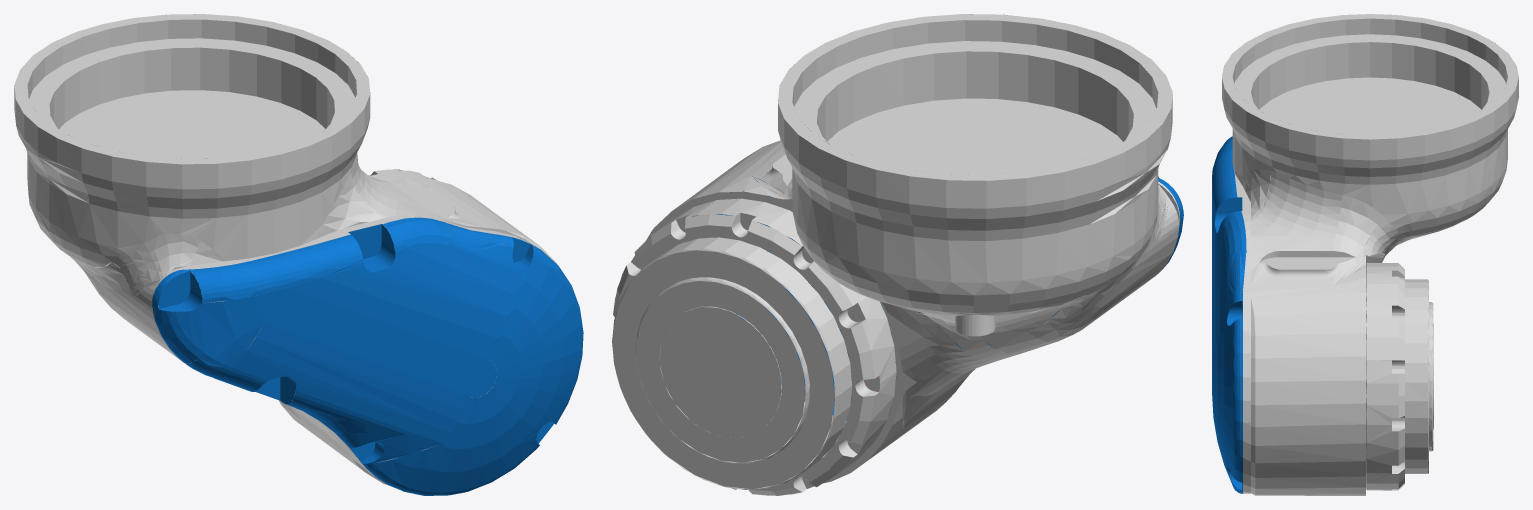
The model's file is arm_right_link_3_e.dae.
3 renders of one model, left to right at view 1: azimuth 30°, elevation 25°; view 2: azimuth 150°, elevation 25°; view 3: azimuth 270°, elevation 25°, orthographic. The views are drawn at different scales.
Visible parts, largest first — view 1: ShapeIndexedFaceSet, ShapeIndexedFaceSet_001; view 2: ShapeIndexedFaceSet, ShapeIndexedFaceSet_001, ShapeIndexedFaceSet_002; view 3: ShapeIndexedFaceSet, ShapeIndexedFaceSet_001.
Boxes of the visible parts, left/top/right/bottom form: ShapeIndexedFaceSet: left=14, top=14, right=556, bottom=485; ShapeIndexedFaceSet_001: left=152, top=217, right=583, bottom=495; ShapeIndexedFaceSet: left=612, top=14, right=1179, bottom=495; ShapeIndexedFaceSet_001: left=716, top=169, right=1183, bottom=419; ShapeIndexedFaceSet_002: left=955, top=314, right=995, bottom=336; ShapeIndexedFaceSet: left=1222, top=14, right=1518, bottom=495; ShapeIndexedFaceSet_001: left=1212, top=136, right=1246, bottom=493.
Size of the model in its own units: 0.2085 by 0.1415 by 0.168.
